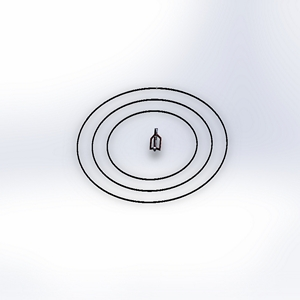circle: (72, 82, 232, 208)
submarine: (140, 123, 170, 161)
